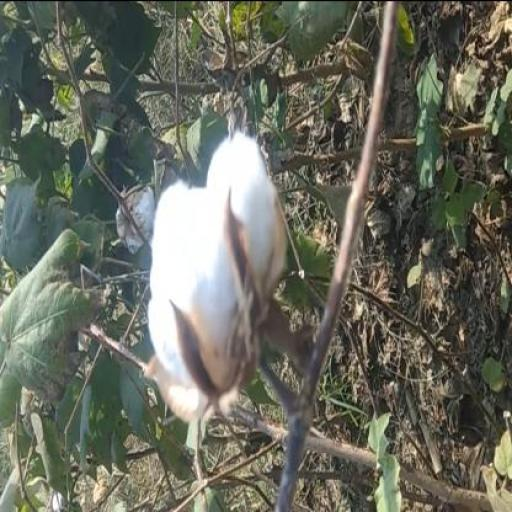cotton_ready: (135, 126, 340, 411)
